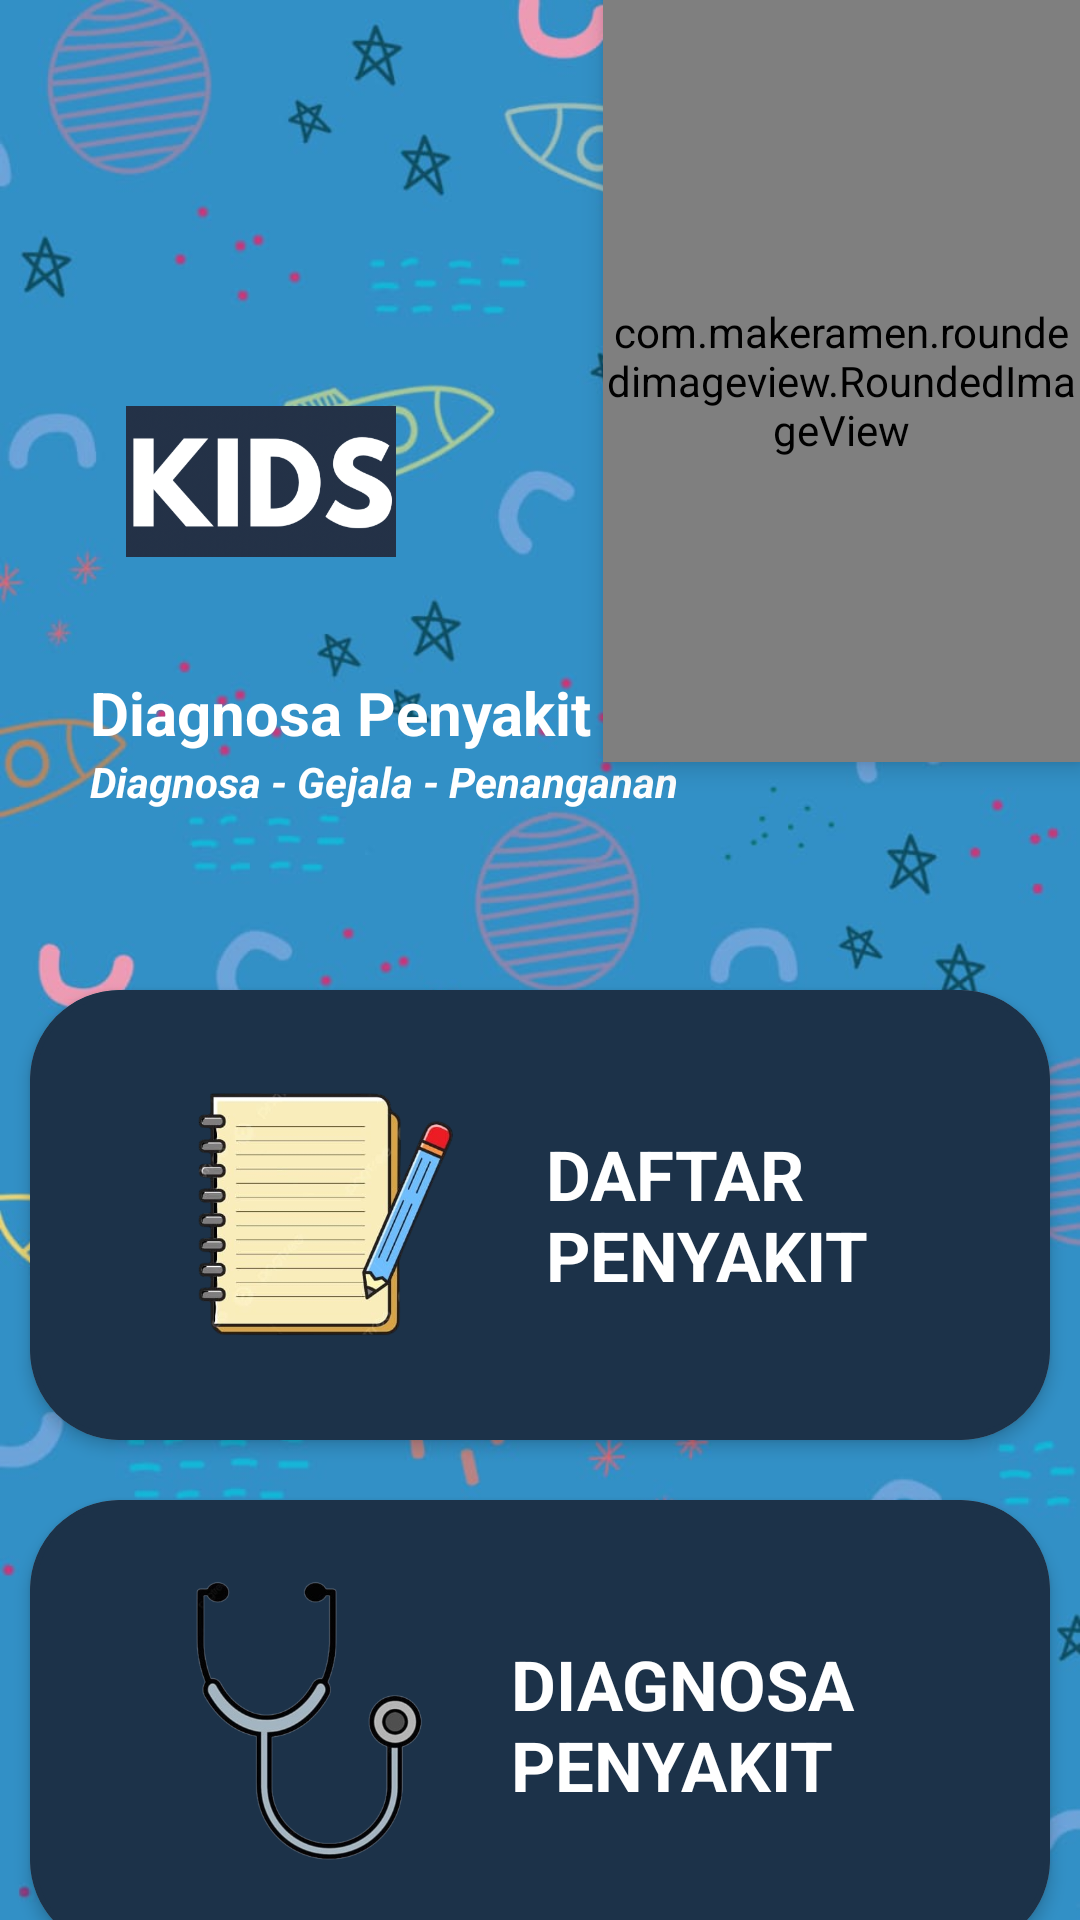

Icon bounding boxes for this 1080×1920 phone screenshot, format (left=x1, top=y1, right=x2, bottom=y2):
catatan: (left=199, top=1094, right=453, bottom=1335)
steto: (left=197, top=1582, right=422, bottom=1859)
